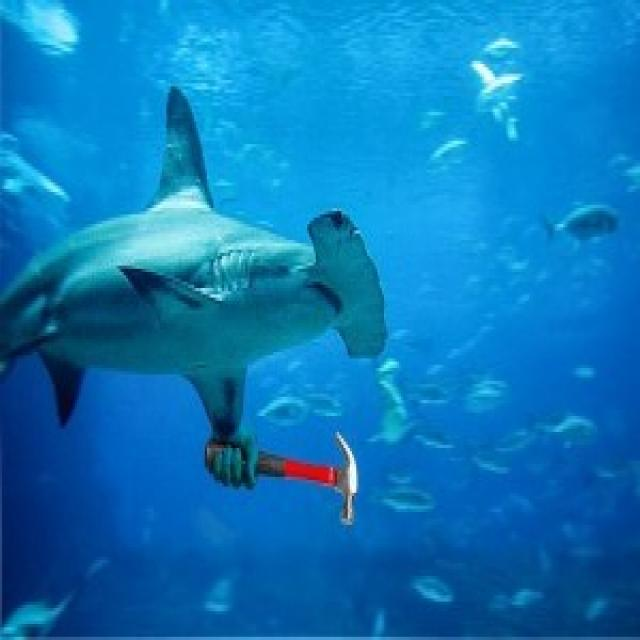Shark: (0, 71, 396, 530)
